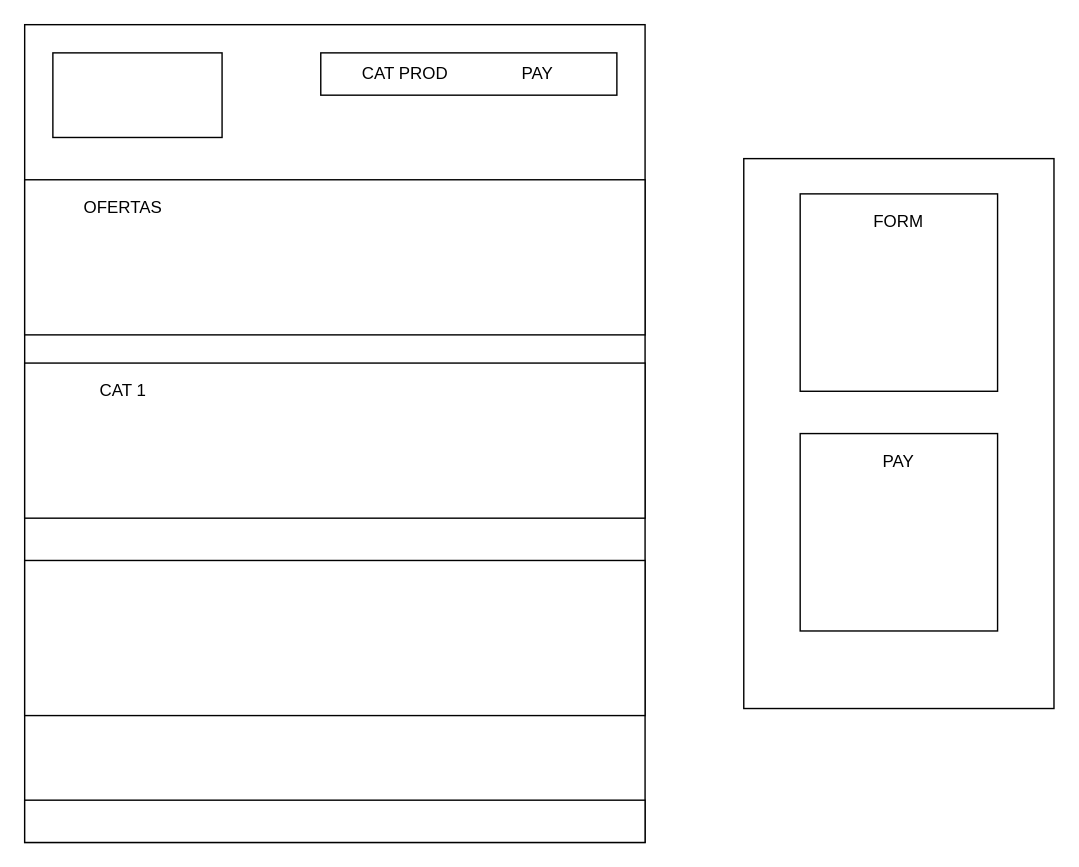
This 1079x867 diagram has some shape labels left out. Each missing label, with the box of its shape:
FOOTER: (23, 799, 645, 842)
LOGO: (51, 51, 222, 137)
